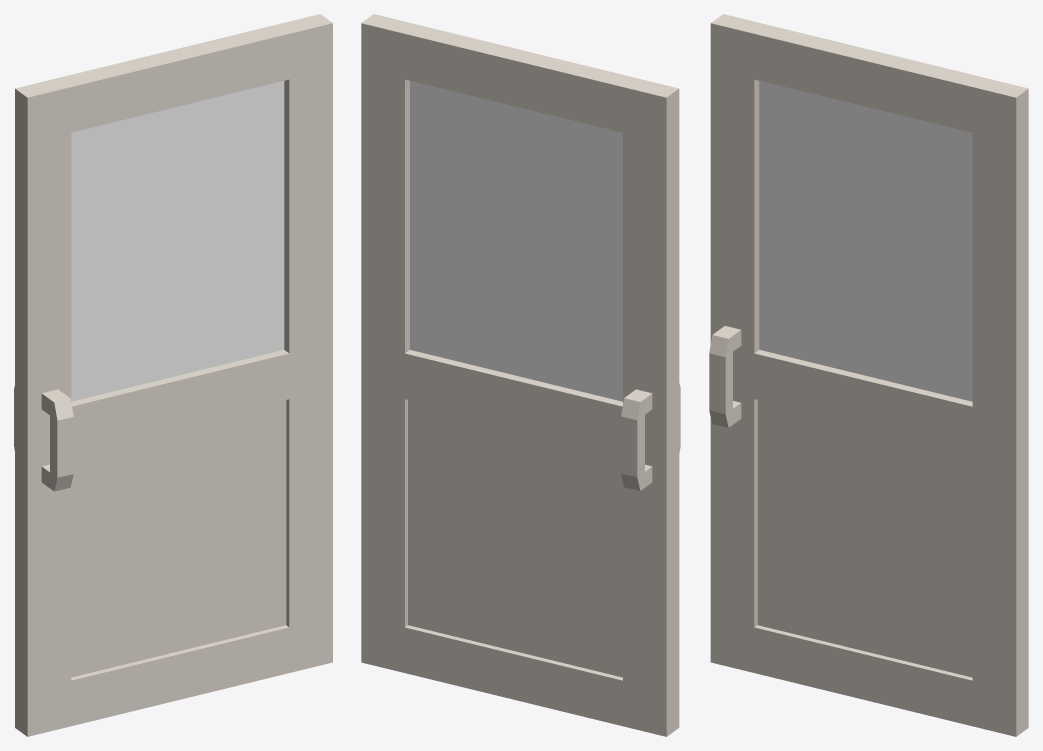
Rendered from door.fbx.
3 views of the same model, side by side, from view 1: azimuth 30°, elevation 25°; view 2: azimuth 150°, elevation 25°; view 3: azimuth 330°, elevation 25° (orthographic).
Visible parts, largest first — view 1: cube_12, cube_11, cube_7, cube_6, cube_8, cube_10, cube_9, cube_5, cube_3; view 2: cube_12, cube_11, cube_7, cube_6, cube_8, cube_10, cube_9, cube, cube_1; view 3: cube_12, cube_11, cube_6, cube_7, cube_8, cube_10, cube_9, cube_5, cube_3.
Part boxes in pixels (left/top/right/bottom): cube_12: left=71, top=81, right=284, bottom=401; cube_11: left=71, top=400, right=286, bottom=677; cube_7: left=15, top=78, right=71, bottom=736; cube_6: left=277, top=14, right=332, bottom=672; cube_8: left=59, top=24, right=289, bottom=132; cube_10: left=71, top=350, right=289, bottom=451; cube_9: left=71, top=625, right=289, bottom=726; cube_5: left=50, top=415, right=73, bottom=477; cube_3: left=41, top=389, right=73, bottom=420; cube_12: left=410, top=81, right=622, bottom=401; cube_11: left=408, top=400, right=622, bottom=677; cube_7: left=623, top=78, right=679, bottom=736; cube_6: left=361, top=14, right=416, bottom=672; cube_8: left=405, top=24, right=634, bottom=132; cube_10: left=405, top=350, right=622, bottom=451; cube_9: left=405, top=625, right=622, bottom=726; cube: left=621, top=415, right=644, bottom=477; cube_1: left=621, top=389, right=652, bottom=420; cube_12: left=759, top=81, right=972, bottom=401; cube_11: left=757, top=400, right=972, bottom=677; cube_6: left=972, top=78, right=1028, bottom=736; cube_7: left=710, top=14, right=766, bottom=672; cube_8: left=754, top=24, right=984, bottom=132; cube_10: left=754, top=350, right=972, bottom=452; cube_9: left=754, top=625, right=972, bottom=726; cube_5: left=709, top=352, right=732, bottom=414; cube_3: left=709, top=326, right=741, bottom=356.
Bounding box in the file's own units: 87.5 × 175 × 21.56.
Materials: 2 (2 with a texture image).
